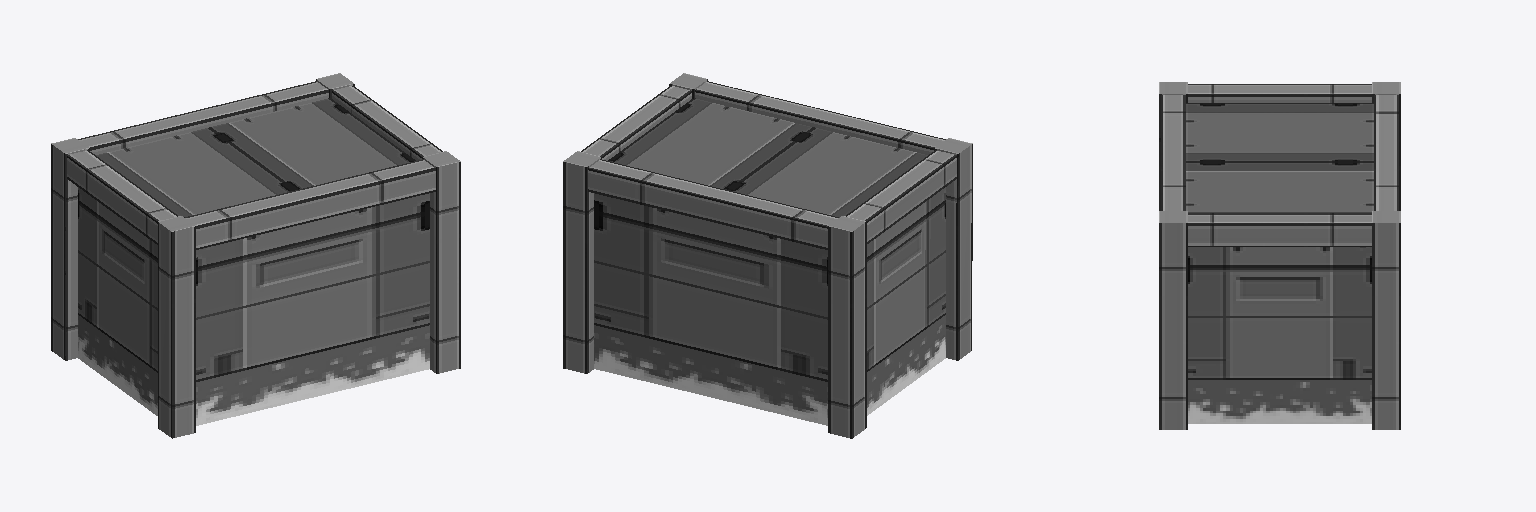
3 views of the same model, side by side, from view 1: azimuth 30°, elevation 25°; view 2: azimuth 150°, elevation 25°; view 3: azimuth 270°, elevation 25° (orthographic).
Visible parts, largest first — view 1: Crate.001_Mesh.013, Crate.003_Mesh.015, Crate.002_Mesh.014, Crate_Mesh.007; view 2: Crate.003_Mesh.015, Crate.001_Mesh.013, Crate.002_Mesh.014, Crate_Mesh.007; view 3: Crate.003_Mesh.015, Crate.001_Mesh.013, Crate.002_Mesh.014, Crate_Mesh.007.
Part boxes in pixels (x1,y1,x2,y2): Crate.001_Mesh.013: (78,187,429,381); Crate.003_Mesh.015: (51,73,460,438); Crate.002_Mesh.014: (96,98,415,216); Crate_Mesh.007: (78,315,429,425); Crate.003_Mesh.015: (563,73,972,438); Crate.001_Mesh.013: (594,187,945,381); Crate.002_Mesh.014: (608,98,927,217); Crate_Mesh.007: (594,315,945,425); Crate.003_Mesh.015: (1159,82,1400,429); Crate.001_Mesh.013: (1188,247,1371,379); Crate.002_Mesh.014: (1186,103,1373,212); Crate_Mesh.007: (1188,380,1371,423).
Bounding box in the file's own units: 0.4429 × 0.303 × 0.3207.
4 materials, 4 textured.